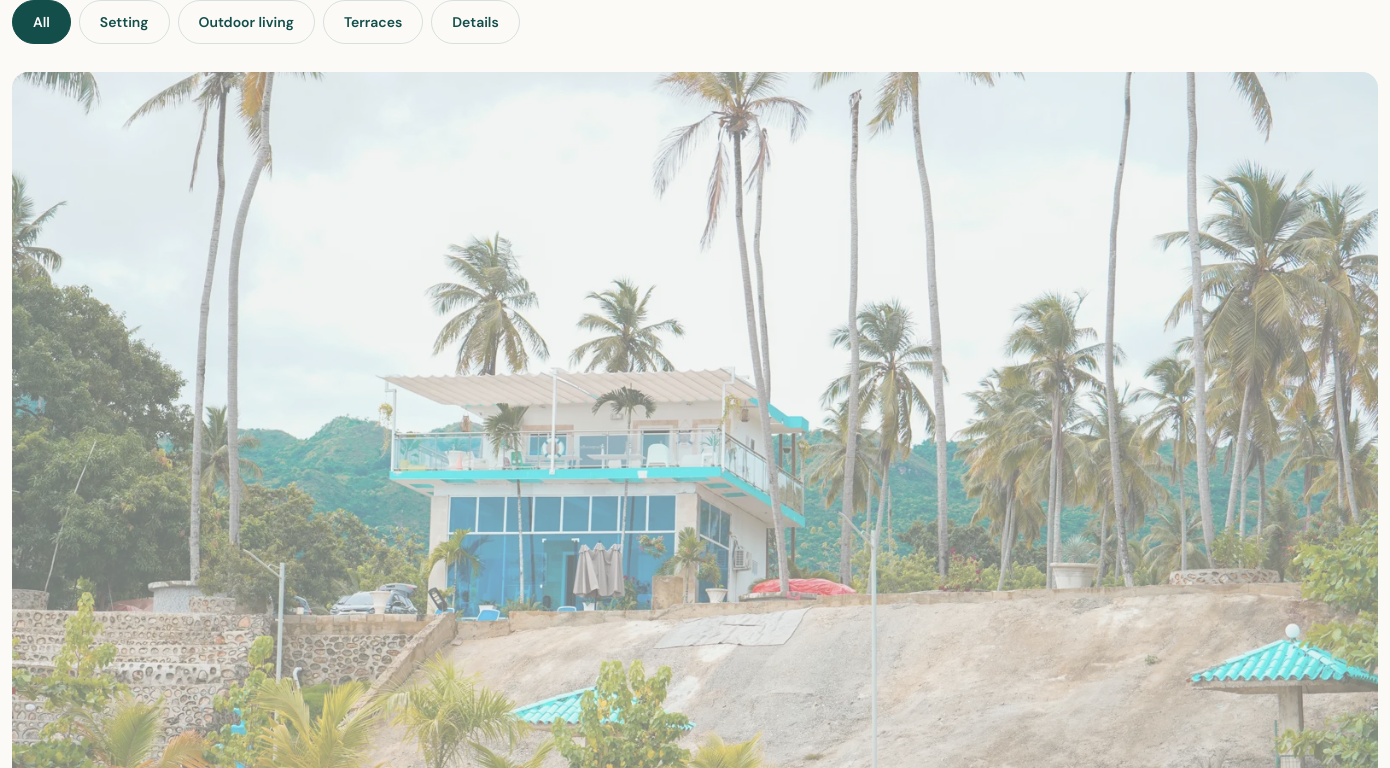
filters the gallery and shows the matching image count
What coordinates should you click on to do the following:
click the button "Details"
I would click on:
 (476, 22)
Its box is [431,0,520,44].
(page scrolled)
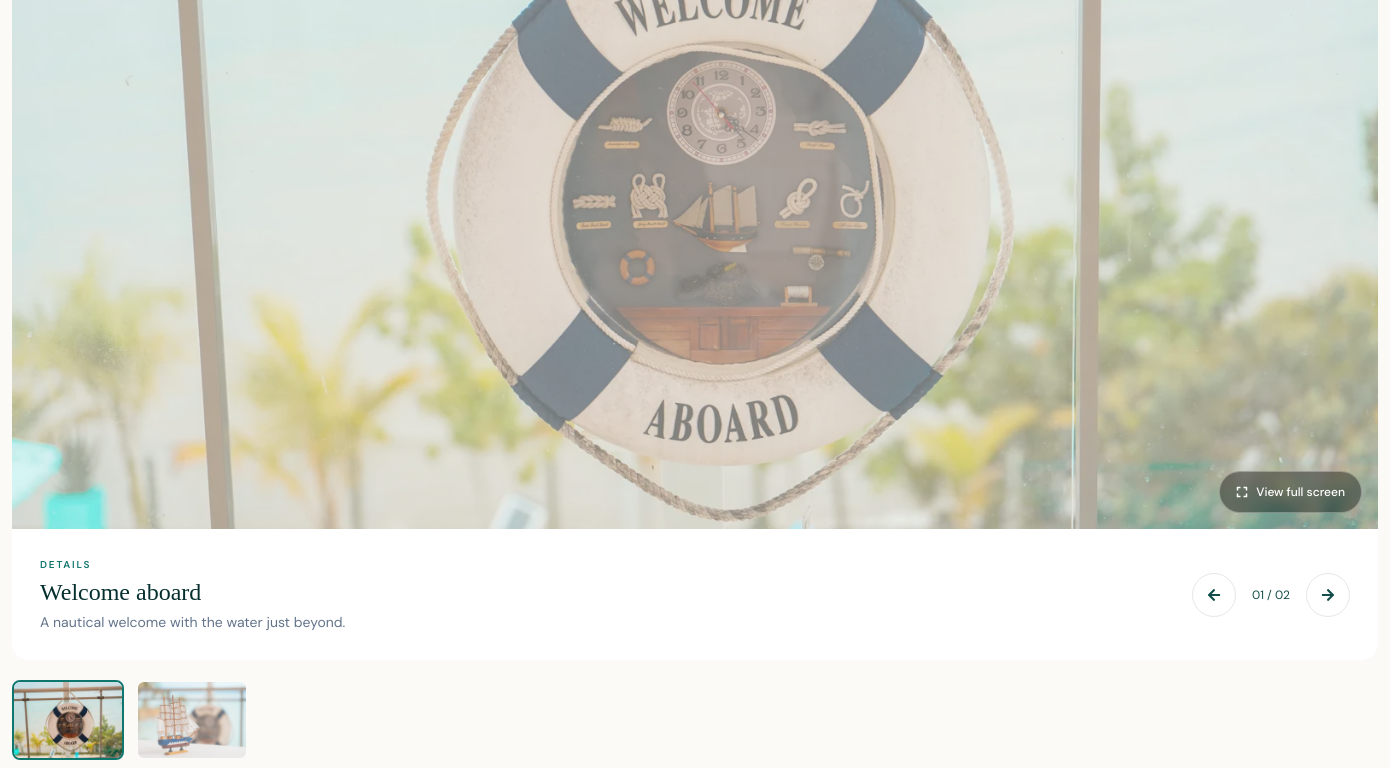
Expected: the text "01 / 02" is shown, [1252,587,1290,603]
What coordinates should you click on to do the following:
click the button named "Next photo"
I would click on:
 (1328, 595)
Its box is [1306,573,1350,617].
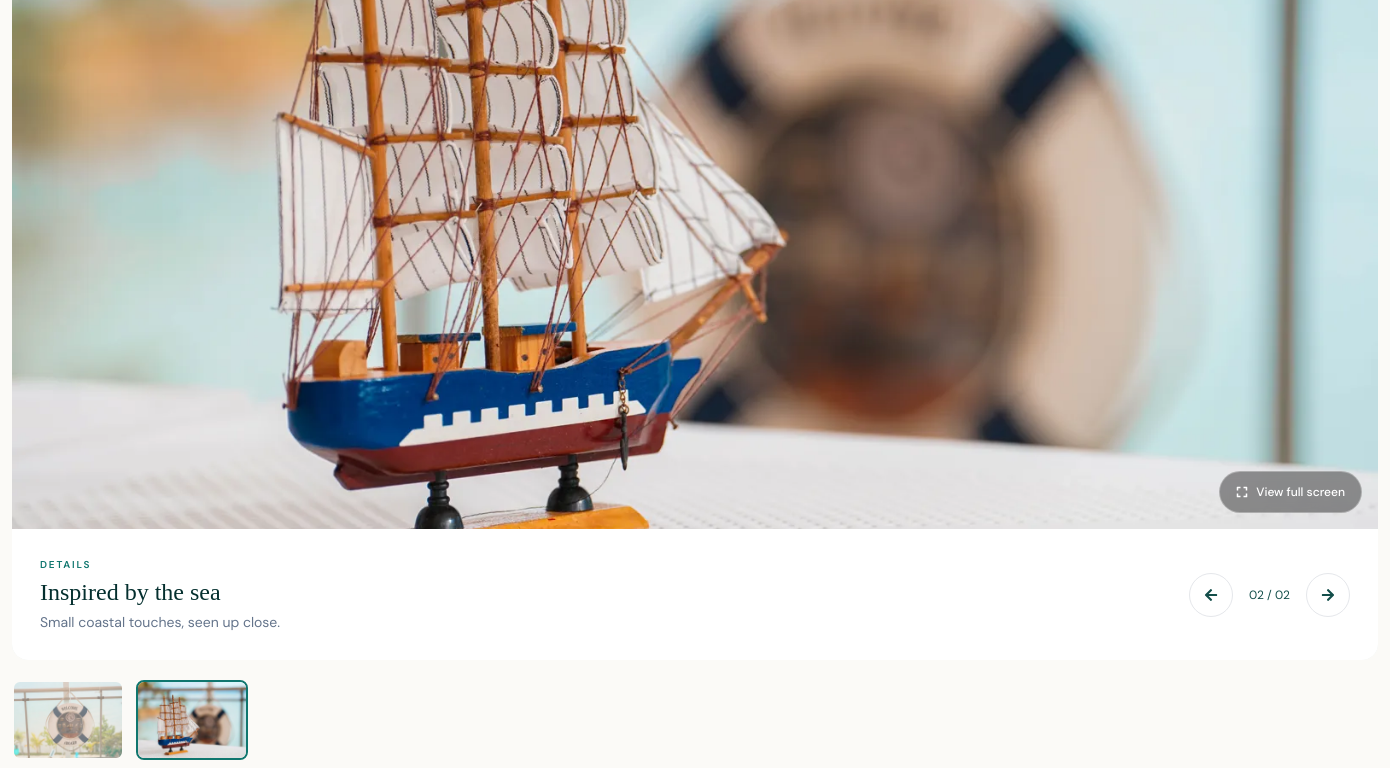
Expected: the text "02 / 02" is shown, [1249,587,1290,603]
